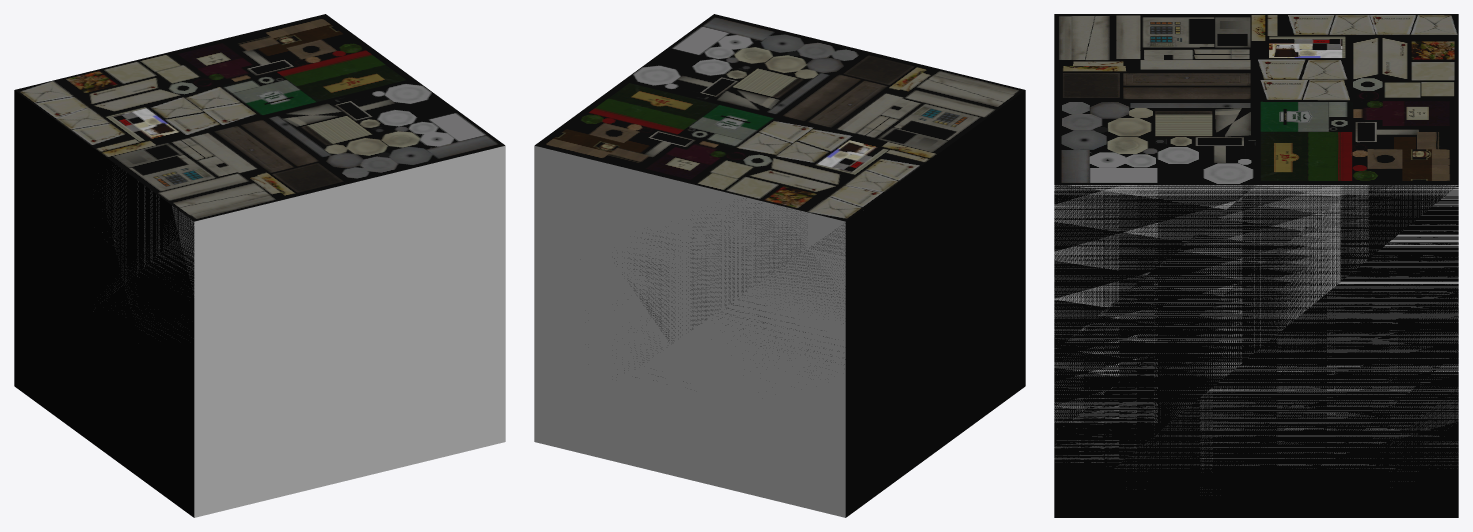
The model's file is take_out_box_02.DAE.
3 renders of one model, left to right at view 1: azimuth 30°, elevation 25°; view 2: azimuth 150°, elevation 25°; view 3: azimuth 270°, elevation 25°, orthographic. The views are drawn at different scales.
Visible parts, largest first — view 1: colbox-1, bounds; view 2: colbox-1, bounds; view 3: colbox-1, bounds.
Boxes of the visible parts, x1,y1,x2,y2 form: colbox-1: (14,14,504,517); bounds: (93,145,505,517); colbox-1: (535,14,1025,517); bounds: (534,145,845,517); colbox-1: (1054,14,1458,517); bounds: (1054,185,1458,489).
Bounding box in the file's own units: 27.02 × 27.02 × 24.56.
